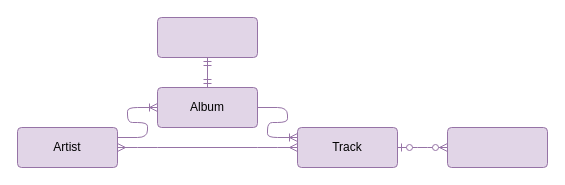
Some shapes in this 565 by 185 pixel diagram are drawn without their labels. Here are the shapes that lost their labels. From the top down, the box of each, then its label:
(156, 16, 258, 58): Genre
(446, 126, 548, 168): Playlist
